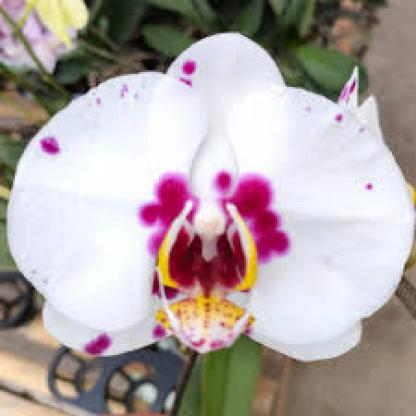ANGGREK: (18, 56, 408, 358)
